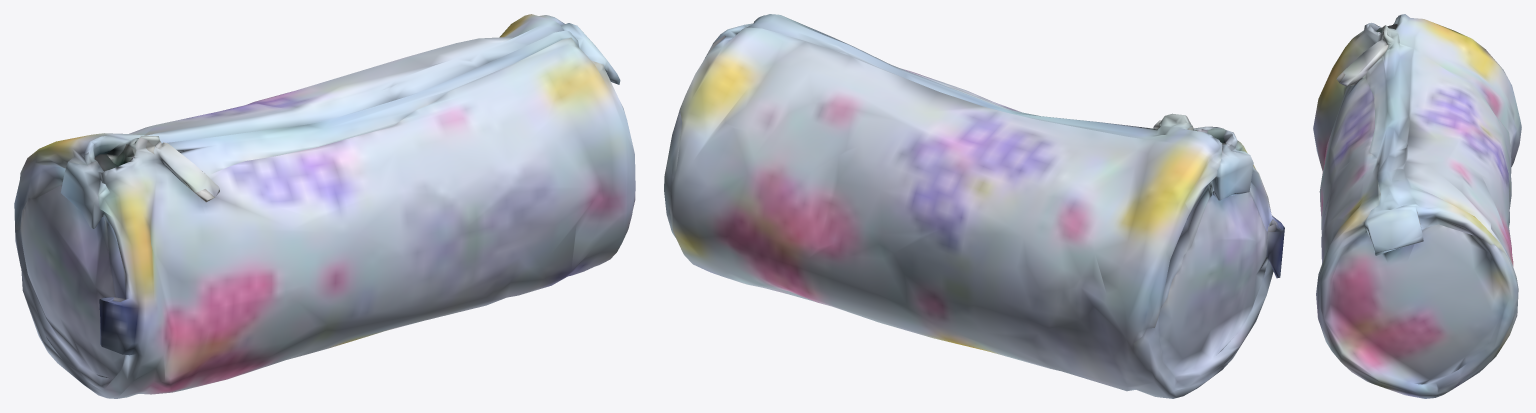
File: Olive_Kids_Butterfly_Garden_Pencil_Case-medium.glb
The picture shows the model from 3 angles, left to right: view 1: azimuth 30°, elevation 25°; view 2: azimuth 150°, elevation 25°; view 3: azimuth 270°, elevation 25°; orthographic projection. The views are drawn at different scales.
Parts seen in each view (by area): view 1: Olive_Kids_Butterfly_Garden_Pencil_Case; view 2: Olive_Kids_Butterfly_Garden_Pencil_Case; view 3: Olive_Kids_Butterfly_Garden_Pencil_Case.
Part boxes in pixels (<box>): Olive_Kids_Butterfly_Garden_Pencil_Case: <box>14,14,635,398</box>; Olive_Kids_Butterfly_Garden_Pencil_Case: <box>664,14,1284,398</box>; Olive_Kids_Butterfly_Garden_Pencil_Case: <box>1313,14,1521,398</box>.
Size of the model in its own units: 0.2091 by 0.0948 by 0.087.
Materials: 1 (1 with a texture image).
